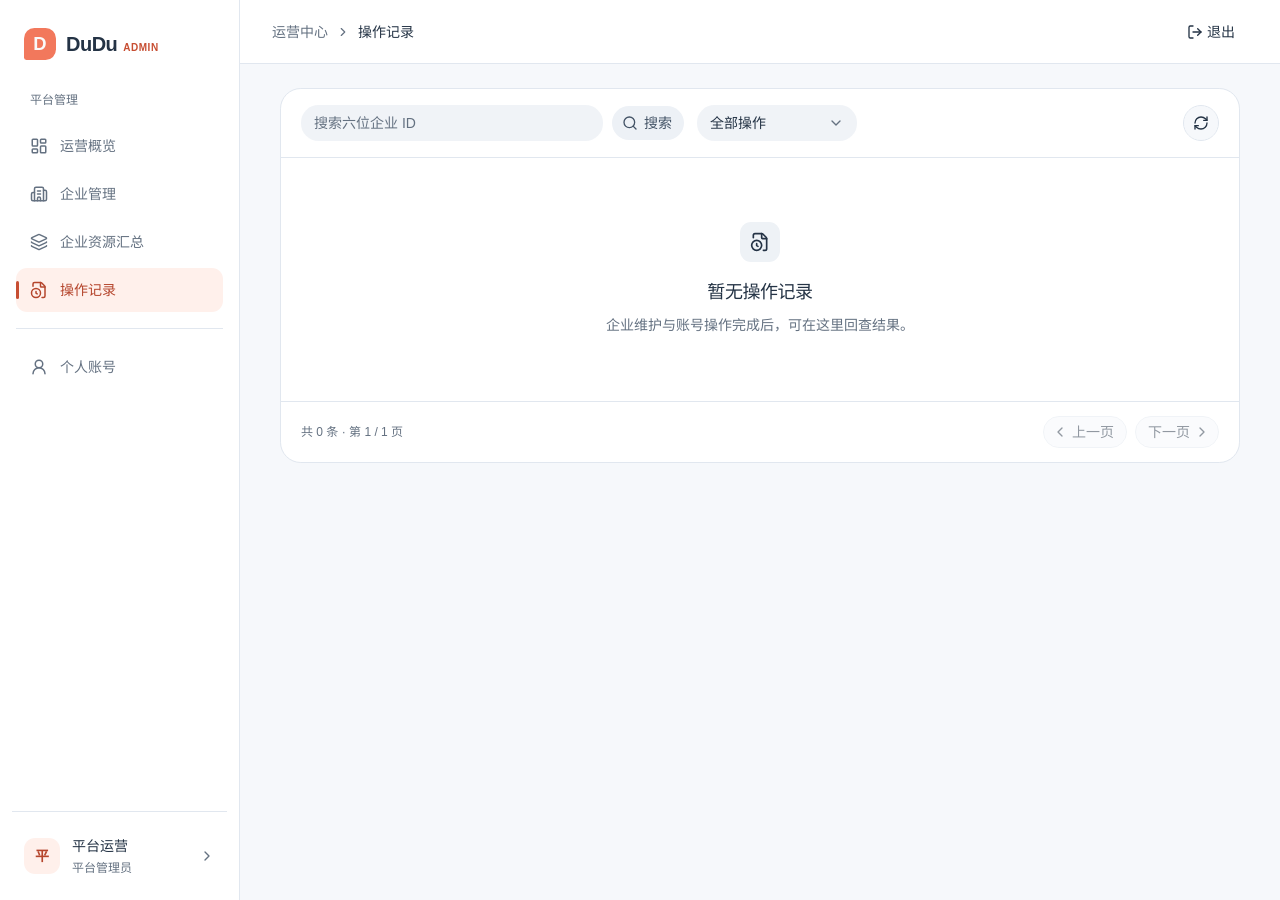
Scenario: 操作记录查询使用企业 ID 与服务端操作码，空查询有明确反馈
Expected: the text "暂无操作记录" is shown, [707,278,813,306]
In the field labelled "企业 ID": point(452, 123) [301,105,603,141], type "123456"
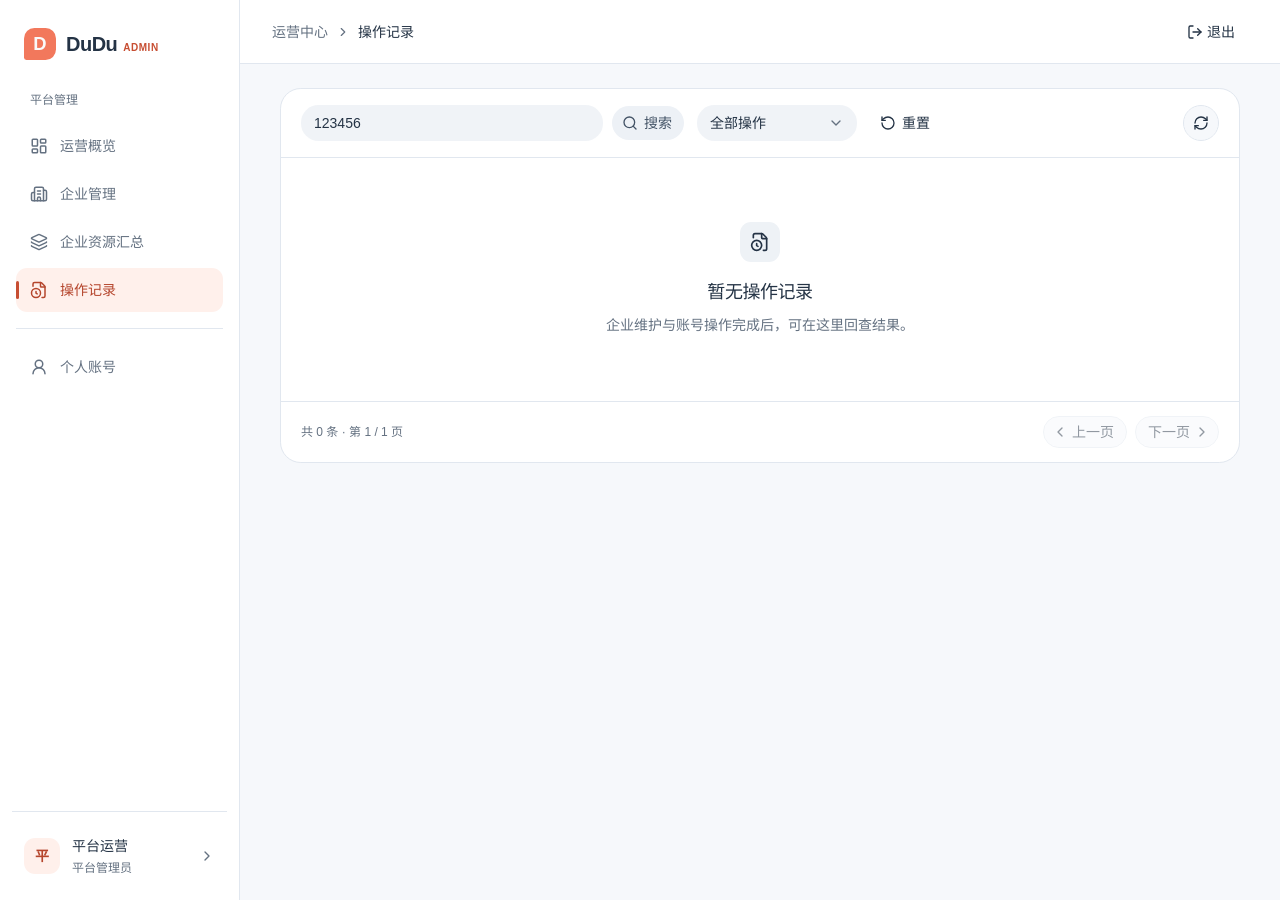
Click the button "搜索": point(648, 123) [611,105,685,141]
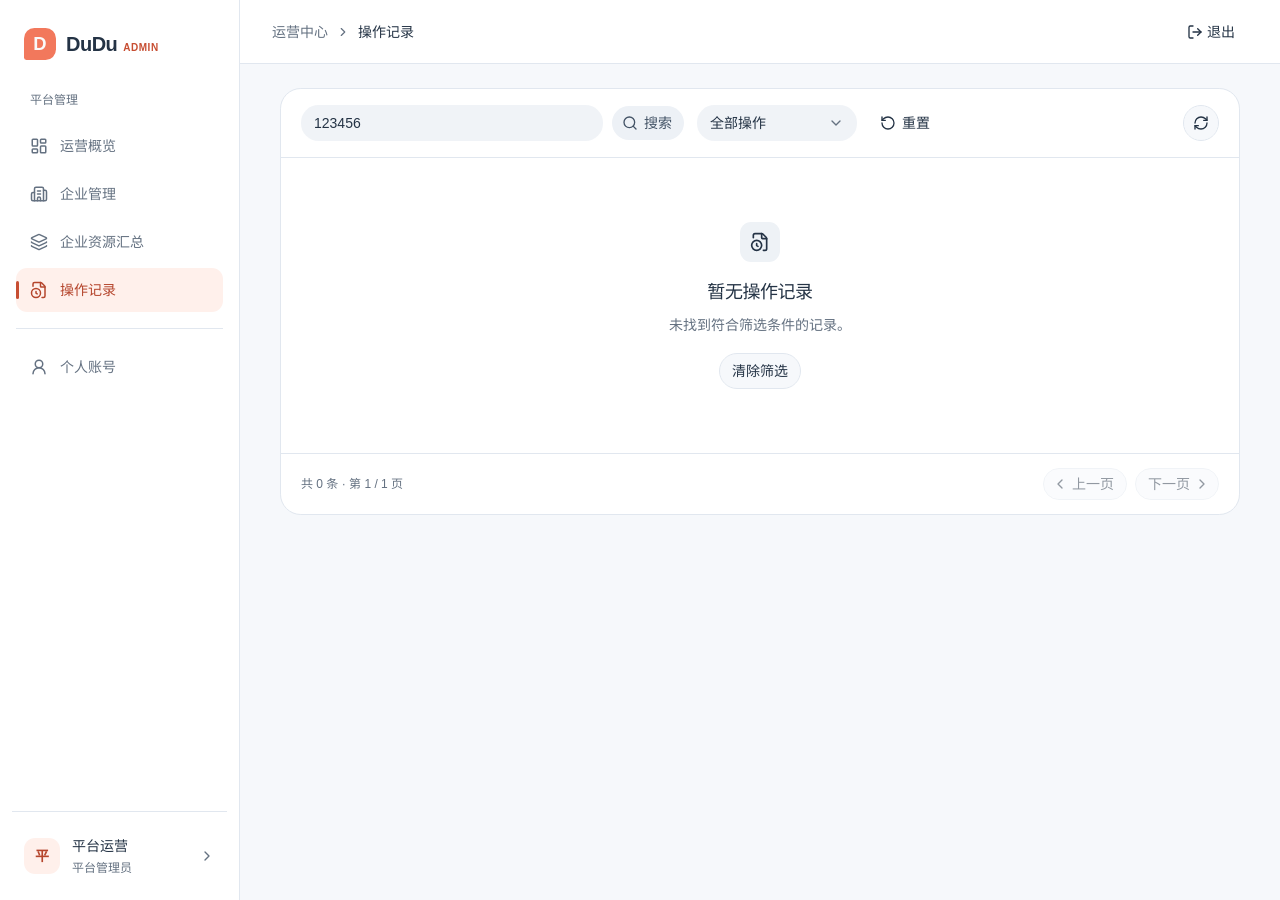
Now the text "未找到符合筛选条件的记录。" is shown, box [669,314,851,337]
